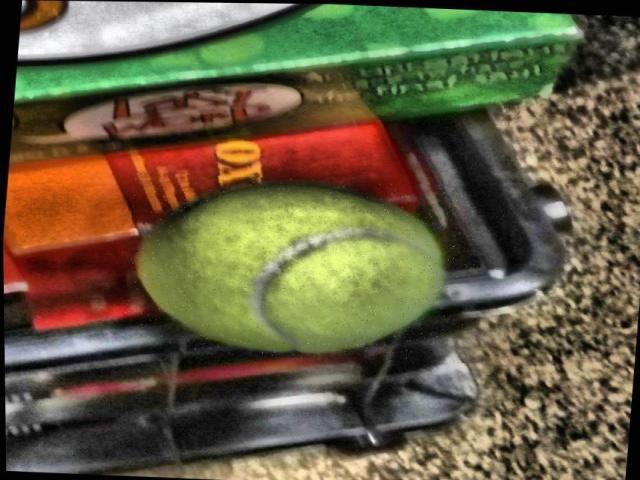tennis-ball: (138, 183, 446, 354)
